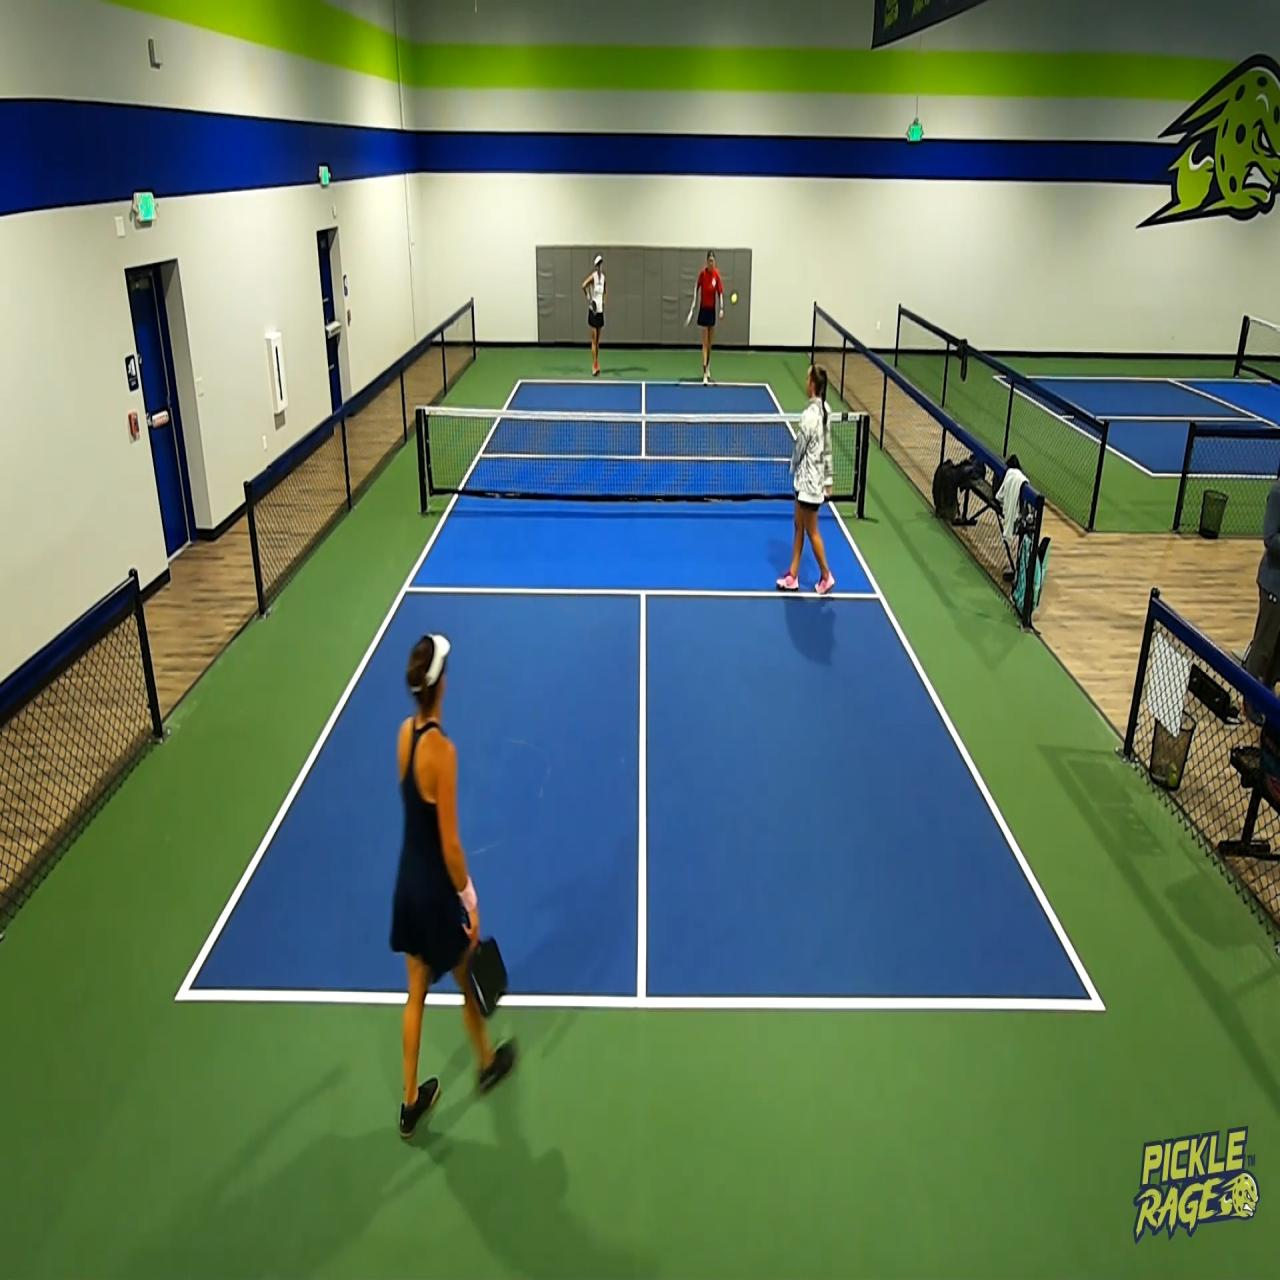Pickleball: (728, 287, 737, 306)
